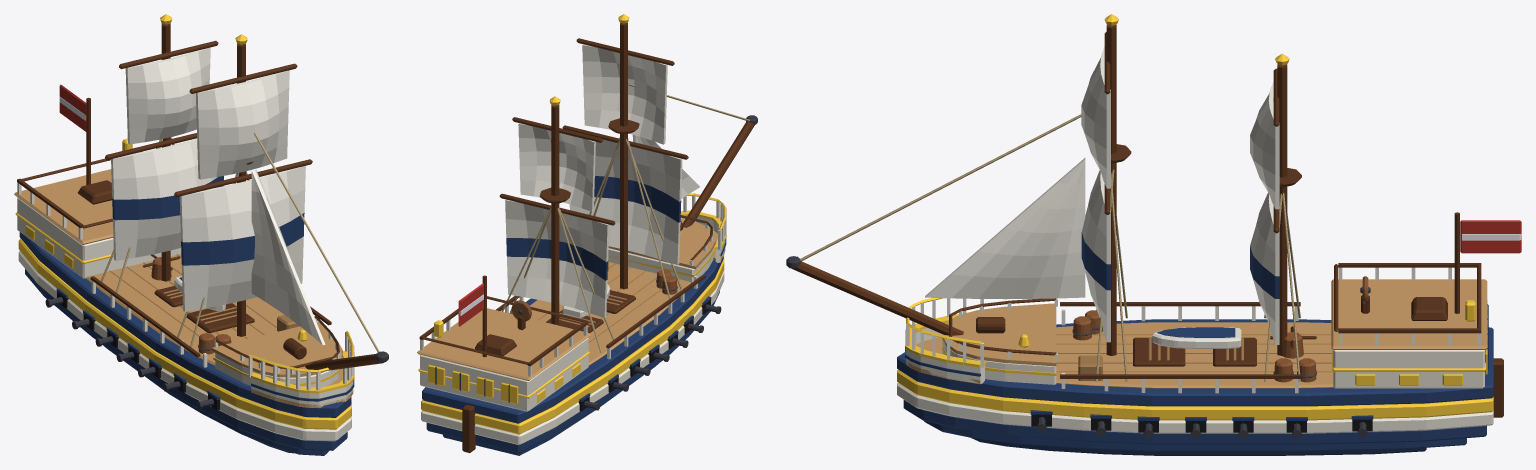
File: navy-frigate.glb
3 renders of one model, left to right at view 1: azimuth 30°, elevation 25°; view 2: azimuth 150°, elevation 25°; view 3: azimuth 270°, elevation 25°, orthographic. The views are drawn at different scales.
Visible parts, largest first — view 1: NavyFrigate; view 2: NavyFrigate; view 3: NavyFrigate.
Part boxes in pixels (x1,y1,x2,y2): NavyFrigate: (14, 14, 388, 455); NavyFrigate: (417, 14, 757, 455); NavyFrigate: (786, 14, 1521, 455).
Bounding box in the file's own units: 1.53 × 3.19 × 5.04.
1 material, 1 textured.
